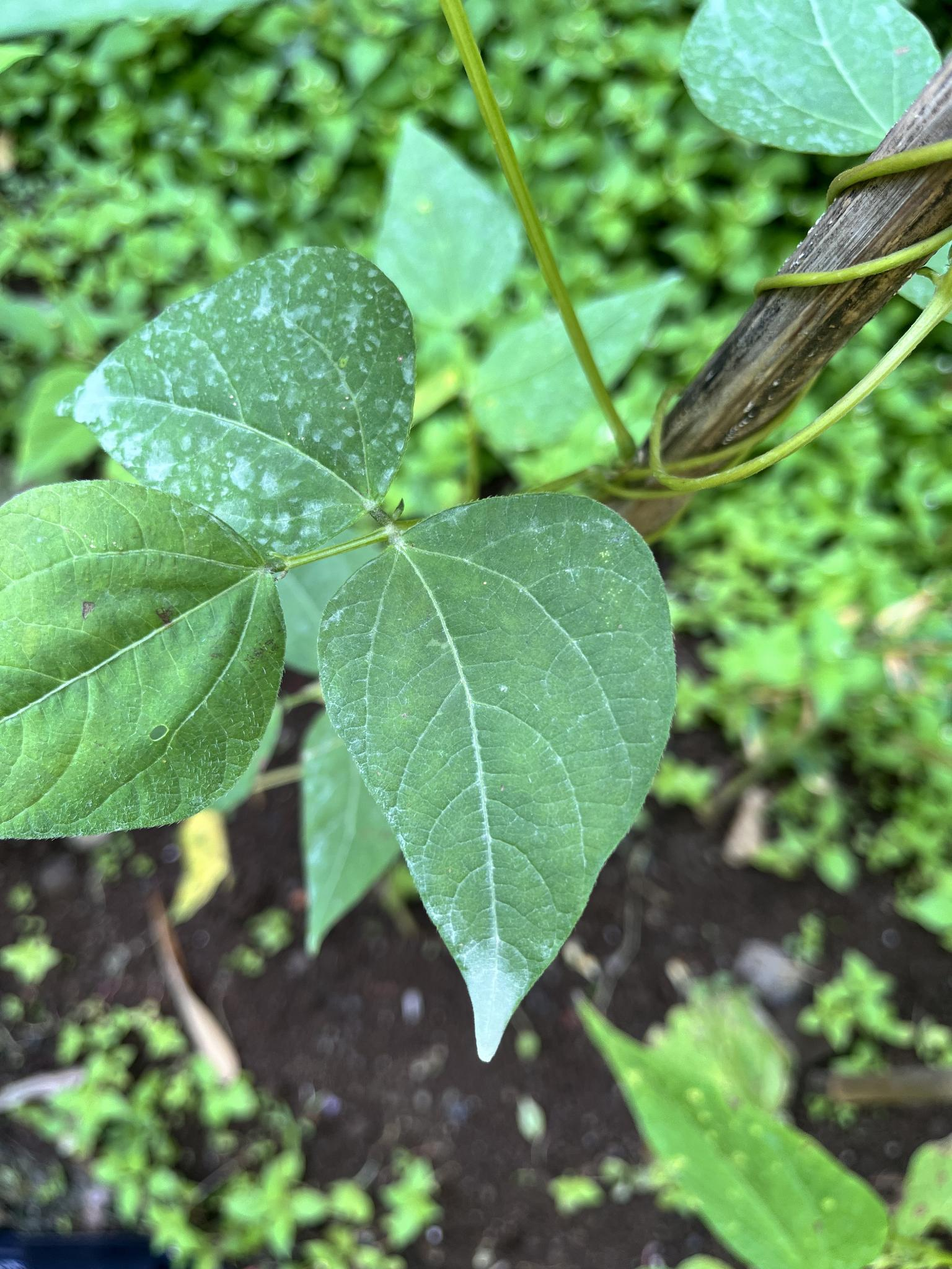embun tepung: (66, 253, 419, 560), (415, 889, 564, 1059)
